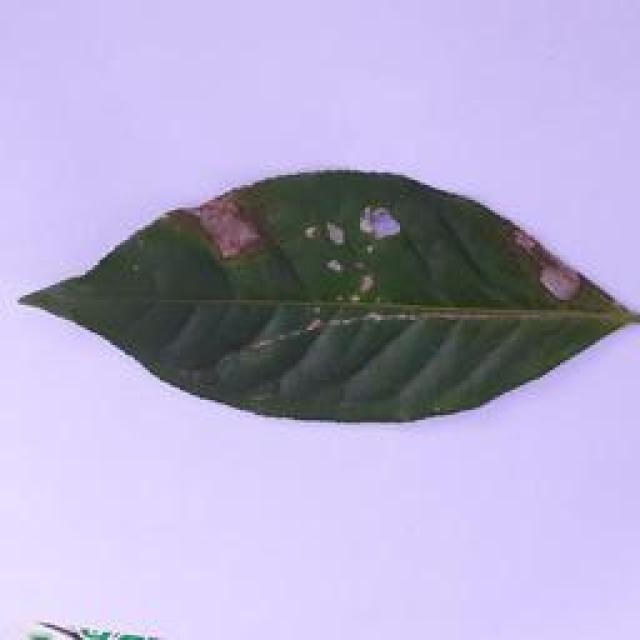Gray Blight: (14, 166, 640, 431)
